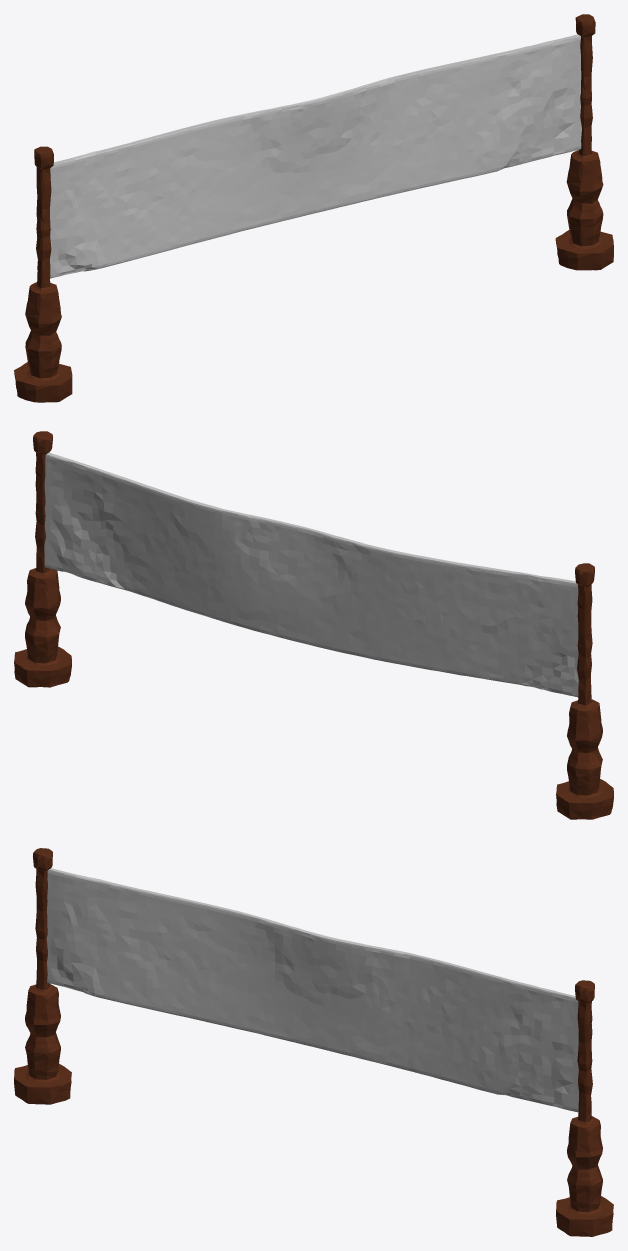
Rendered from DesertLandSnakeFlag0326.obj.
3 renders of one model, top to bottom at view 1: azimuth 30°, elevation 25°; view 2: azimuth 150°, elevation 25°; view 3: azimuth 330°, elevation 25°, orthographic.
Parts seen in each view (by area): view 1: Cube.003, Cube, Cube.002; view 2: Cube.003, Cube, Cube.002; view 3: Cube.003, Cube.002, Cube.
Boxes of the visible parts, left/top/right/bottom form: Cube.003: left=50, top=34, right=581, bottom=278; Cube: left=14, top=146, right=72, bottom=402; Cube.002: left=555, top=14, right=613, bottom=270; Cube.003: left=44, top=452, right=578, bottom=697; Cube: left=556, top=563, right=613, bottom=819; Cube.002: left=14, top=431, right=71, bottom=687; Cube.003: left=46, top=868, right=578, bottom=1112; Cube.002: left=556, top=980, right=613, bottom=1236; Cube: left=14, top=848, right=71, bottom=1104.
Size of the model in its own units: 27.57 by 10.7 by 2.57.
